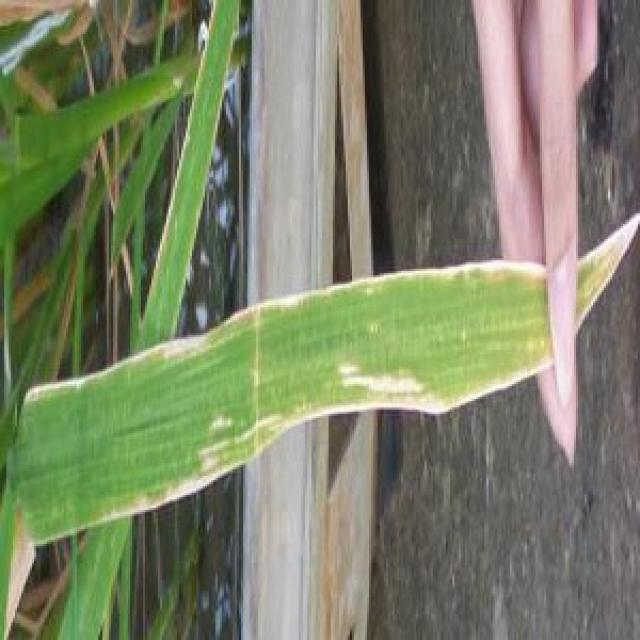leaf blight: (228, 241, 546, 348), (92, 410, 290, 522), (290, 350, 553, 424), (32, 322, 224, 403), (578, 201, 638, 322)
